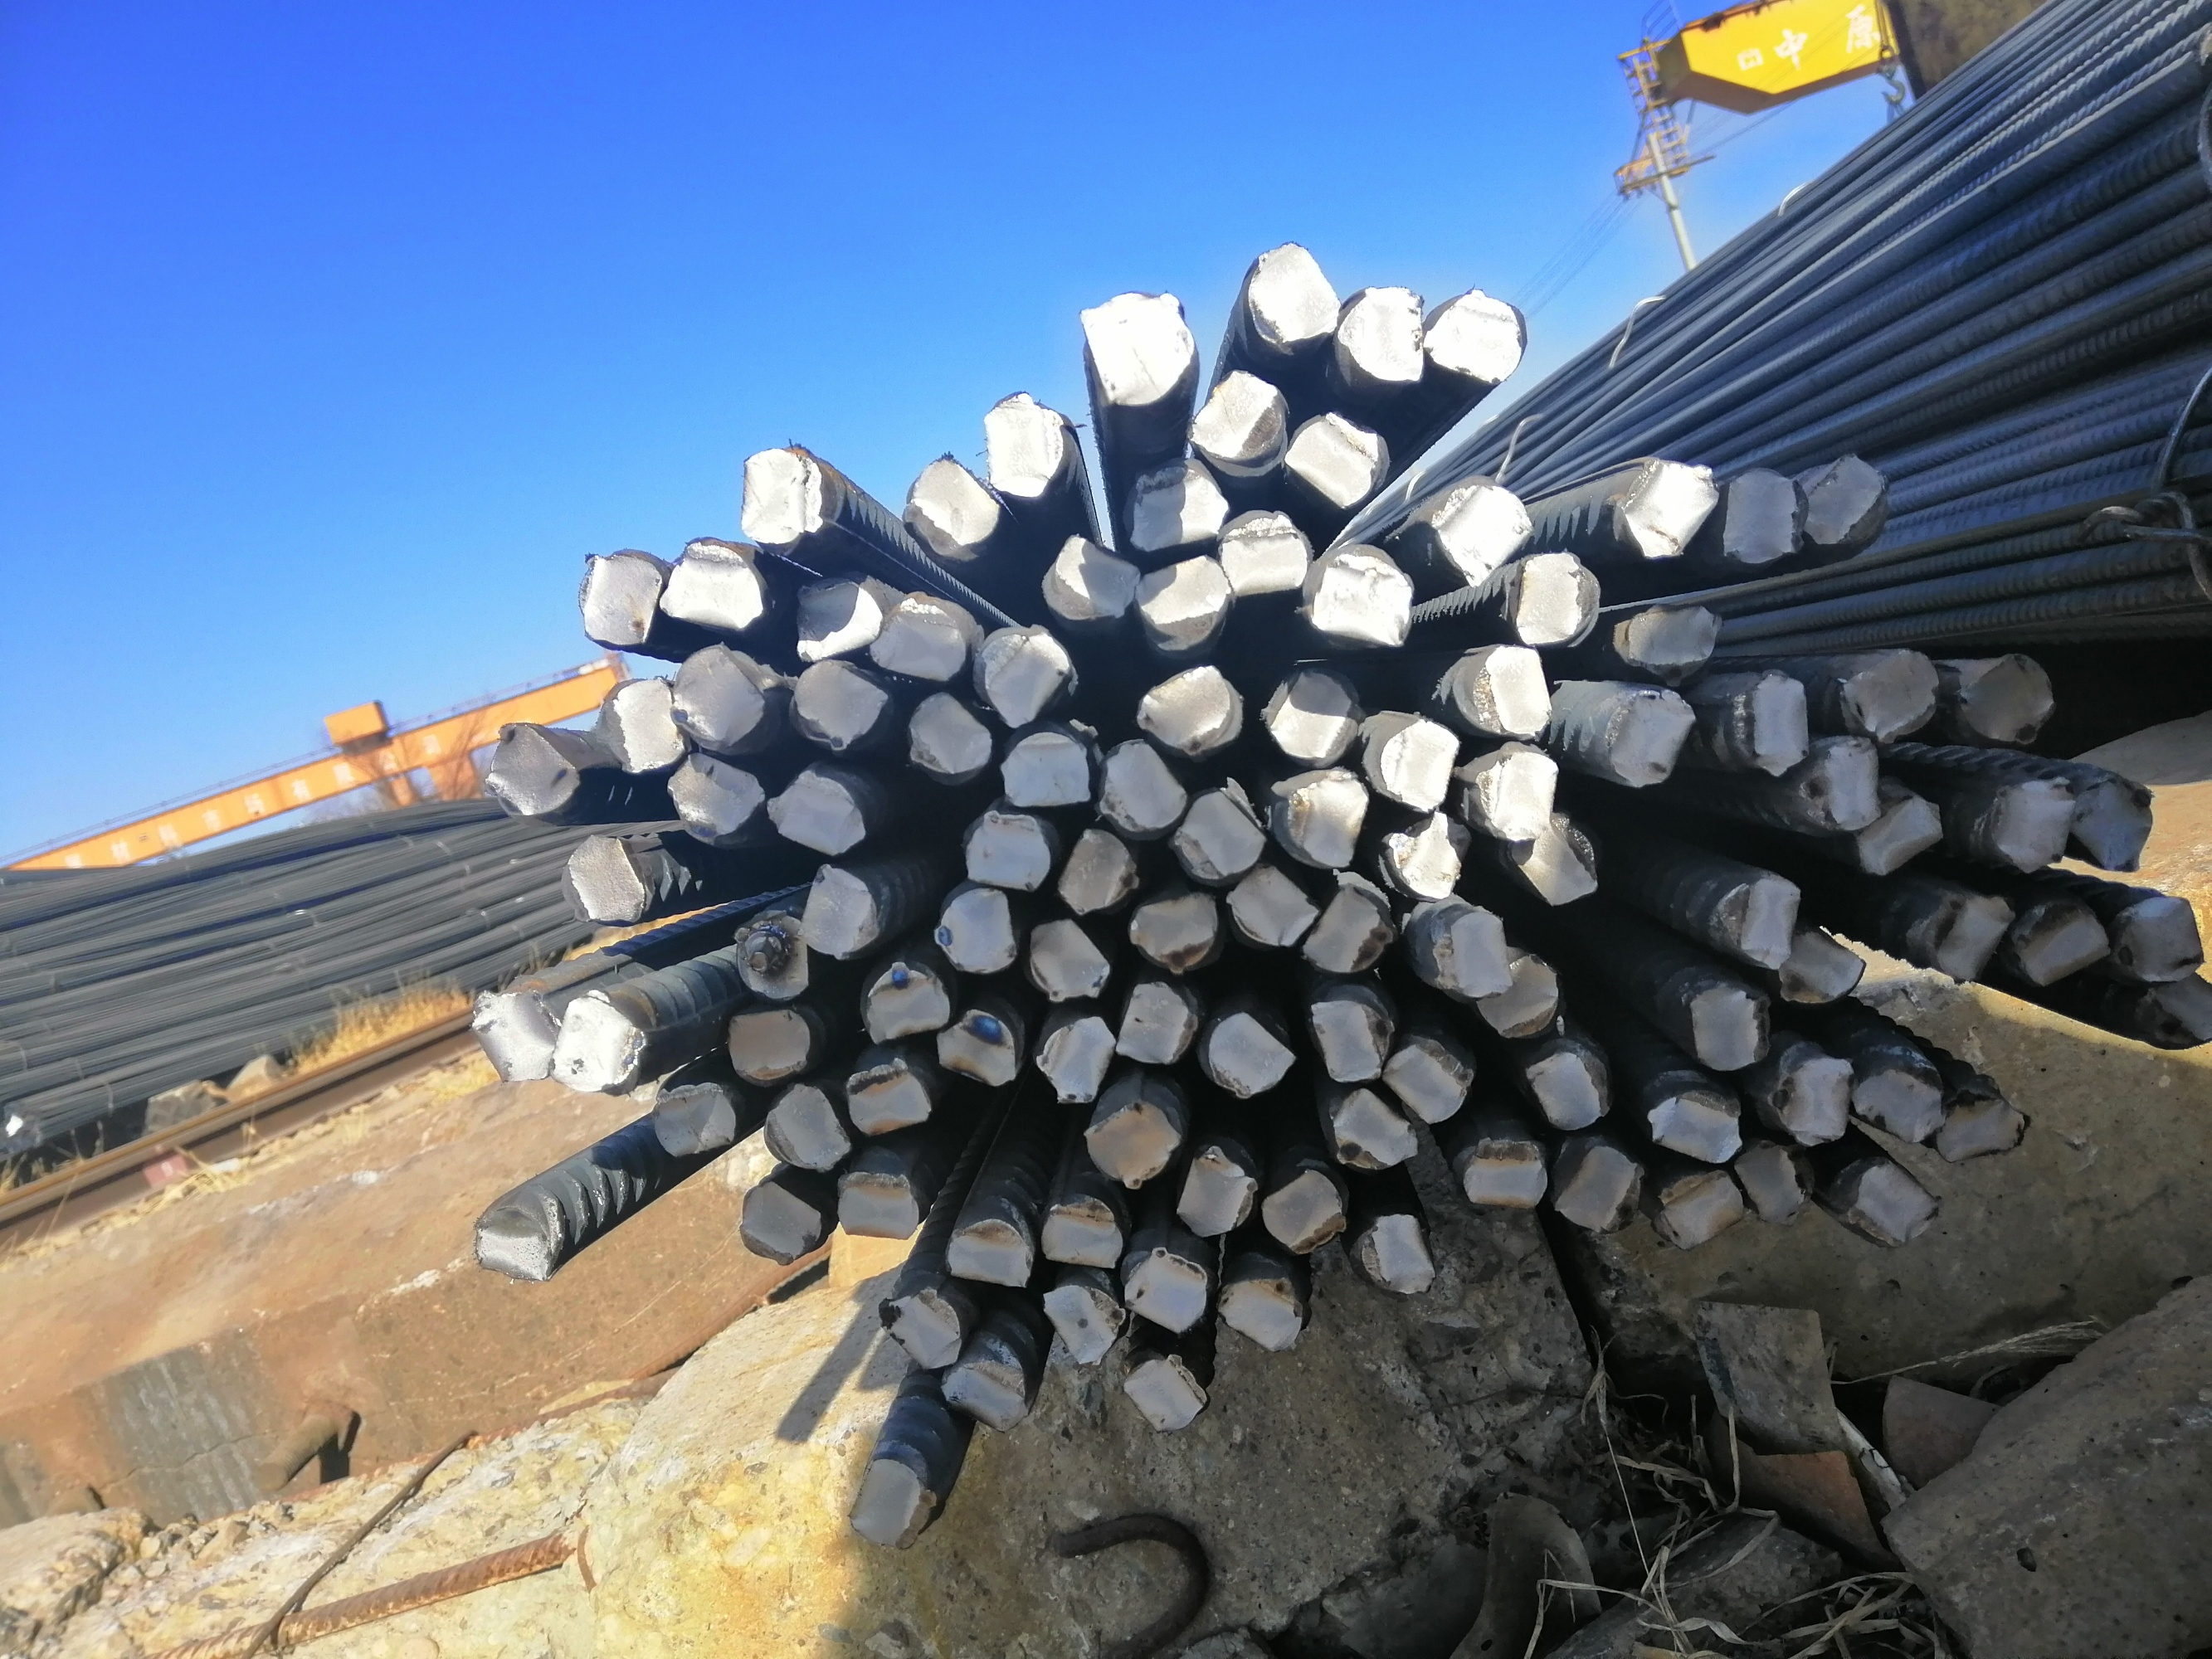rebar: (1075, 284, 1198, 416), (1231, 228, 1342, 347), (1424, 469, 1534, 587), (1300, 538, 1414, 652), (1419, 284, 1532, 392), (1614, 450, 1720, 559), (1593, 685, 1700, 791), (485, 718, 587, 828), (1128, 554, 1238, 657), (657, 535, 769, 636), (906, 453, 1006, 566), (544, 988, 641, 1103), (978, 383, 1070, 504), (671, 643, 772, 753), (591, 673, 695, 777), (1839, 1154, 1942, 1260), (1278, 410, 1388, 509), (976, 626, 1079, 730), (1131, 662, 1241, 760), (1832, 641, 1942, 739), (1119, 460, 1234, 552), (1910, 880, 2013, 983), (763, 762, 872, 857), (1278, 772, 1377, 875), (1081, 1096, 1185, 1194), (1466, 742, 1564, 847), (1959, 648, 2057, 753), (1035, 525, 1142, 620), (465, 1187, 560, 1295), (753, 1077, 851, 1180), (1452, 643, 1555, 741), (1189, 369, 1293, 465), (558, 828, 652, 934), (1262, 664, 1361, 763), (1333, 279, 1428, 383), (465, 985, 563, 1084), (2008, 894, 2107, 992), (737, 443, 830, 547), (1508, 547, 1600, 652), (575, 545, 664, 653), (661, 748, 765, 838), (1731, 667, 1815, 781), (1300, 885, 1398, 981), (1211, 507, 1309, 601), (1677, 974, 1769, 1073), (849, 1452, 940, 1553), (1168, 1143, 1259, 1244), (1030, 1012, 1121, 1114), (870, 592, 971, 683), (1719, 467, 1808, 570), (1984, 774, 2073, 877), (1170, 788, 1264, 884), (859, 948, 957, 1040), (1616, 601, 1727, 681), (791, 662, 887, 755), (790, 568, 885, 660), (800, 861, 887, 962), (1797, 735, 1884, 836), (1304, 990, 1389, 1093), (877, 1279, 959, 1385), (645, 1072, 739, 1164), (1471, 950, 1567, 1040), (1096, 735, 1187, 831), (1032, 1194, 1130, 1283), (1204, 1006, 1292, 1105), (1021, 917, 1121, 1004), (718, 1000, 819, 1086), (934, 884, 1020, 985), (2073, 772, 2158, 873), (831, 1157, 926, 1248), (926, 1004, 1020, 1094), (1328, 1082, 1419, 1176), (1853, 1053, 1947, 1143), (1262, 1166, 1351, 1262), (1766, 1051, 1855, 1147), (1382, 1035, 1475, 1126), (903, 685, 995, 775), (1034, 1279, 1128, 1368), (1123, 1246, 1211, 1340), (1123, 1344, 1211, 1438), (1349, 1204, 1438, 1298), (1551, 1141, 1640, 1236), (1720, 871, 1806, 969), (1778, 927, 1876, 1012), (1455, 1126, 1555, 1209), (1128, 884, 1218, 974), (1388, 810, 1478, 901), (1517, 814, 1607, 904), (1652, 1166, 1748, 1251), (1429, 903, 1515, 999), (995, 727, 1091, 812), (1114, 974, 1198, 1072), (1855, 782, 1938, 880), (1375, 714, 1457, 814), (729, 908, 818, 999), (1051, 824, 1140, 915), (1522, 1040, 1609, 1133), (1645, 1089, 1750, 1166), (940, 1215, 1037, 1297), (1808, 451, 1886, 552), (1218, 1274, 1307, 1363), (962, 810, 1055, 896), (739, 1175, 826, 1263), (1224, 866, 1318, 948), (1938, 1084, 2032, 1166), (2113, 892, 2198, 979), (1733, 1133, 1808, 1230), (844, 1054, 933, 1136), (940, 1354, 1028, 1434), (2134, 972, 2212, 1056)
